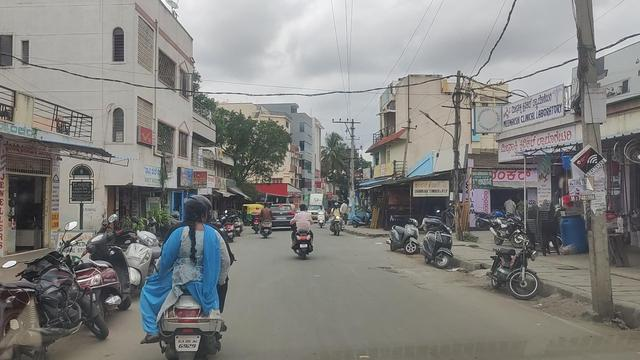LMV: (164, 201, 232, 360), (293, 203, 313, 260)
RoadDamages: (379, 260, 413, 279), (412, 282, 436, 296)
